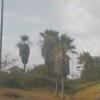Tree: (24, 22, 86, 83)
